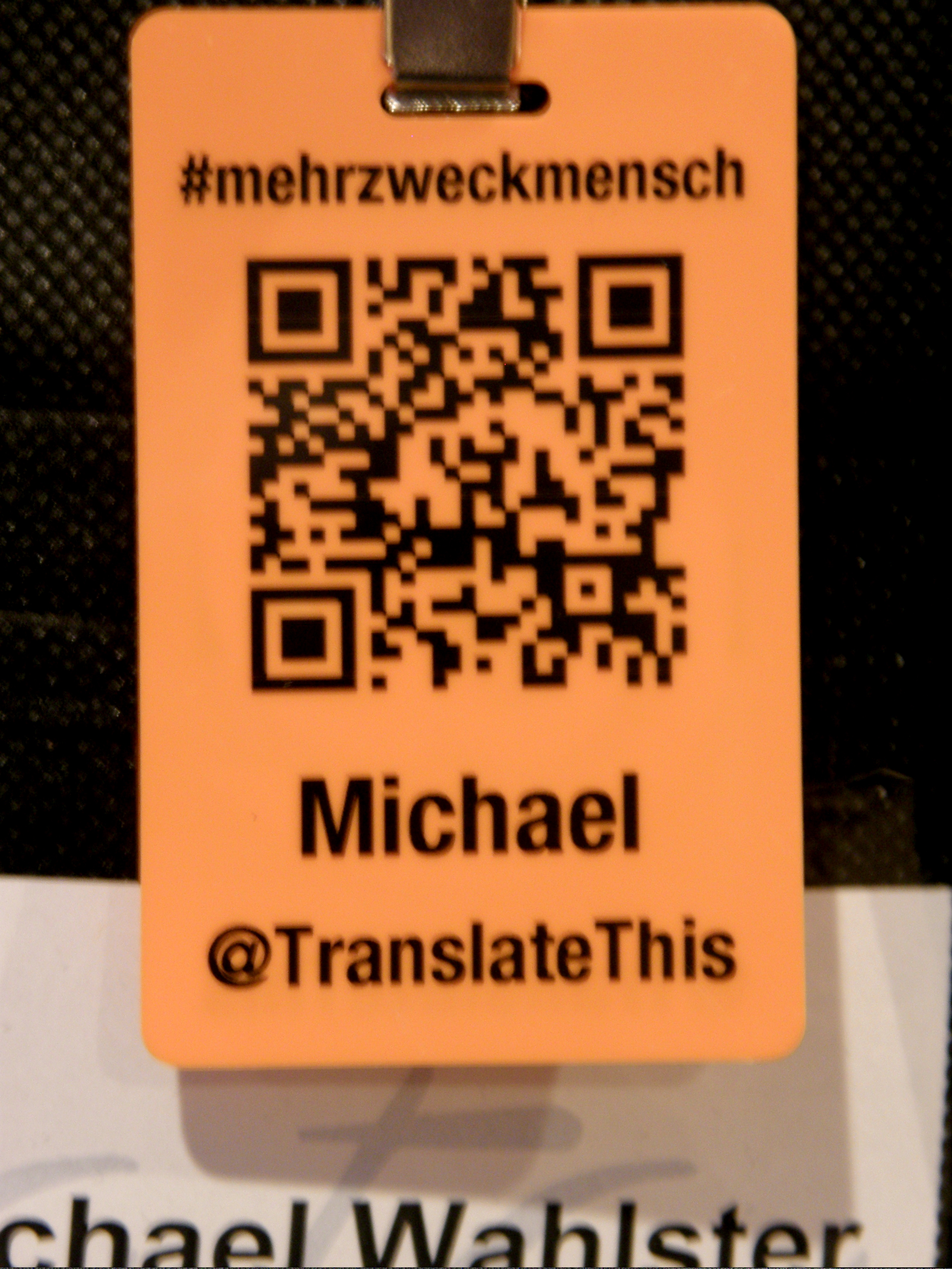QR-CODE: (248, 256, 689, 690)
